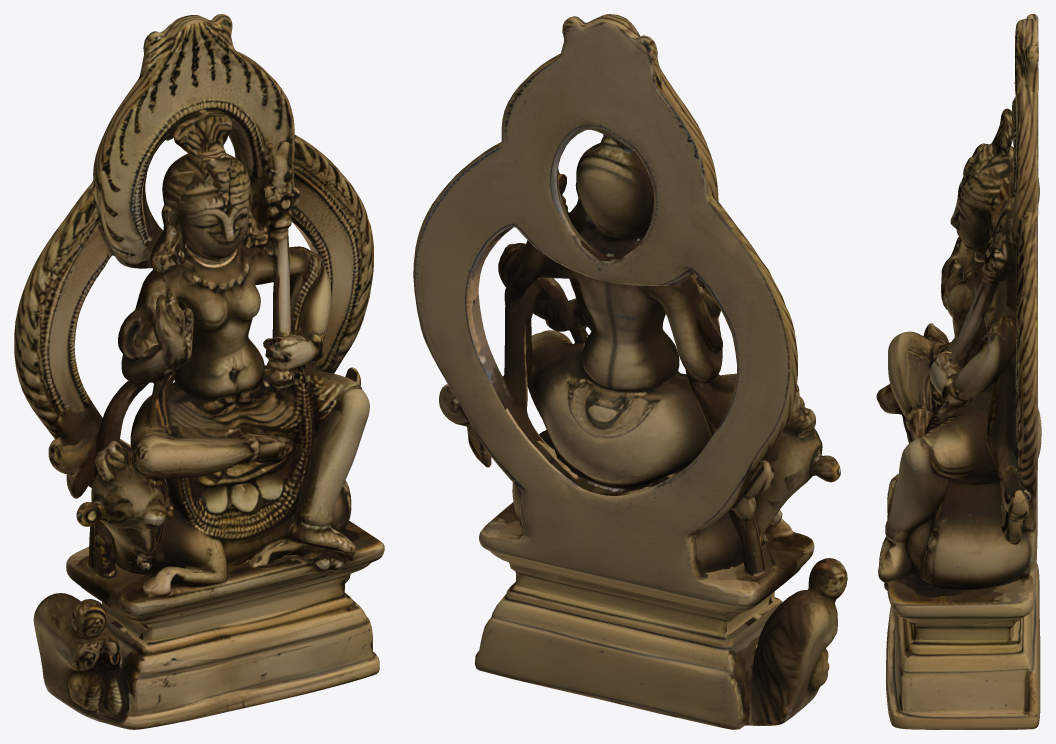
3 renders of one model, left to right at view 1: azimuth 30°, elevation 25°; view 2: azimuth 150°, elevation 25°; view 3: azimuth 270°, elevation 25°, orthographic. The views are drawn at different scales.
Parts seen in each view (by area): view 1: textured_mesh; view 2: textured_mesh; view 3: textured_mesh.
Part boxes in pixels (x1=…): textured_mesh: x1=14, y1=14, x2=384, y2=729; textured_mesh: x1=413, y1=14, x2=847, y2=729; textured_mesh: x1=876, y1=14, x2=1041, y2=729.
Bounding box in the file's own units: 1.16 × 1.99 × 0.4608.
Materials: 1 (1 with a texture image).
